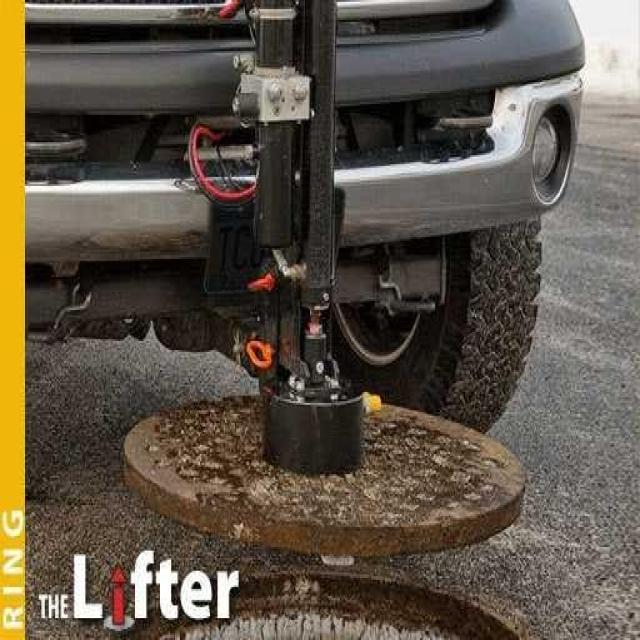manhole: (162, 573, 526, 639)
